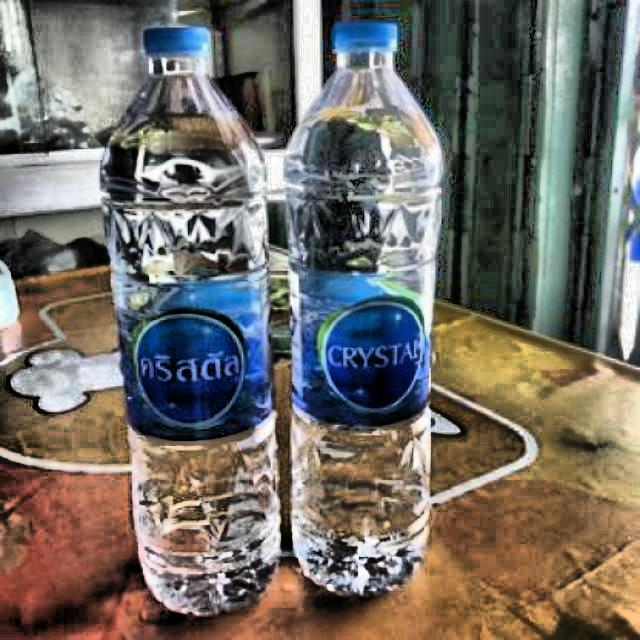Bottles: (92, 10, 285, 625), (276, 13, 448, 602)
